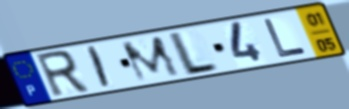4: (229, 19, 268, 67)
I: (86, 44, 113, 91)
L: (168, 30, 221, 78), (261, 17, 310, 60)
M: (118, 34, 184, 85)
R: (32, 48, 93, 100)
